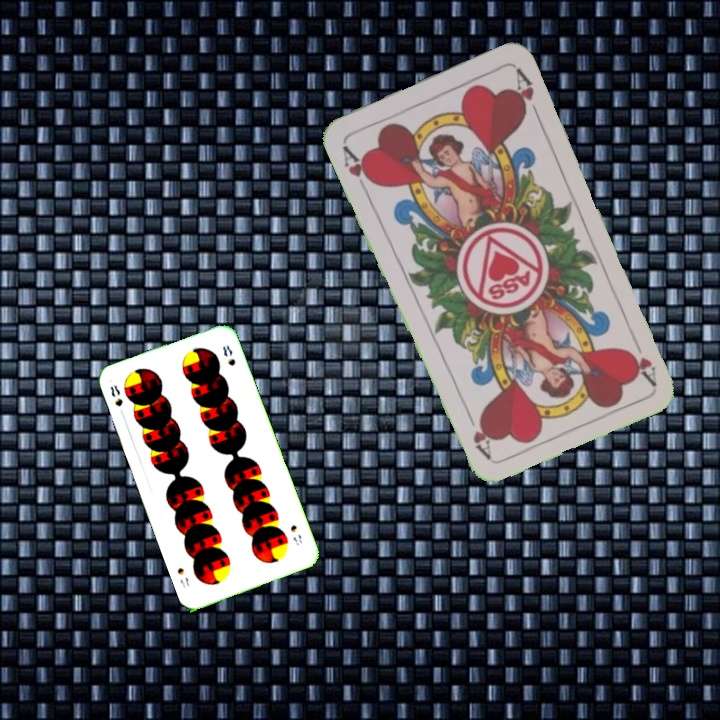HA: (338, 141, 377, 196), (623, 330, 659, 387)
S8: (106, 381, 126, 409), (286, 521, 305, 548)
